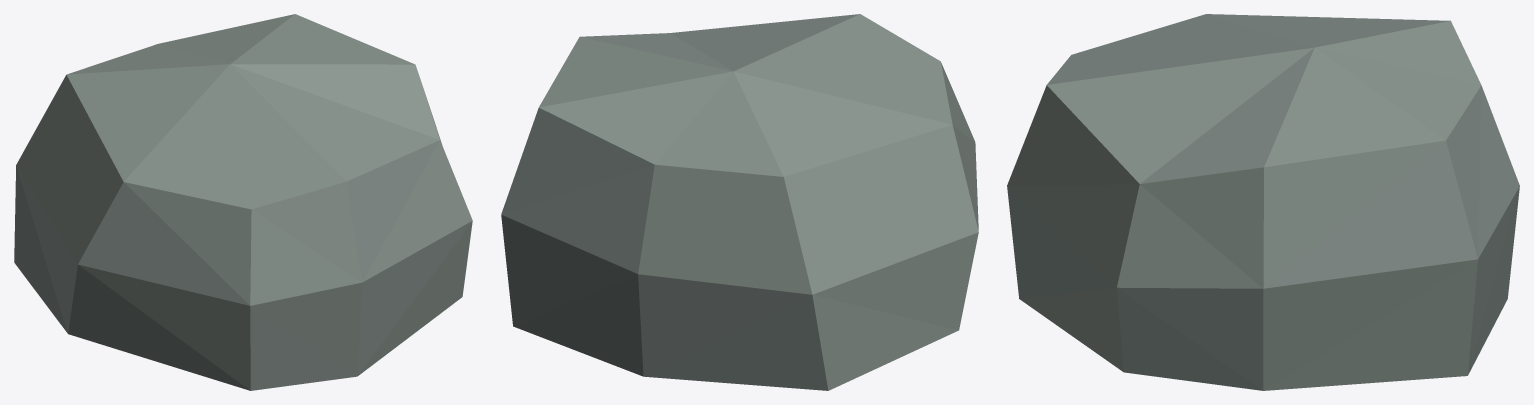
File: Rock_01.fbx
3 views of the same model, side by side, from view 1: azimuth 30°, elevation 25°; view 2: azimuth 150°, elevation 25°; view 3: azimuth 270°, elevation 25° (orthographic). The views are drawn at different scales.
Visible parts, largest first — view 1: Rock; view 2: Rock; view 3: Rock.
Boxes of the visible parts, box(x1,y1,x2,y2) form: Rock: box(14, 14, 472, 390); Rock: box(501, 14, 978, 390); Rock: box(1007, 14, 1519, 390).
Bounding box in the file's own units: 0.4564 × 0.2507 × 0.4627.
